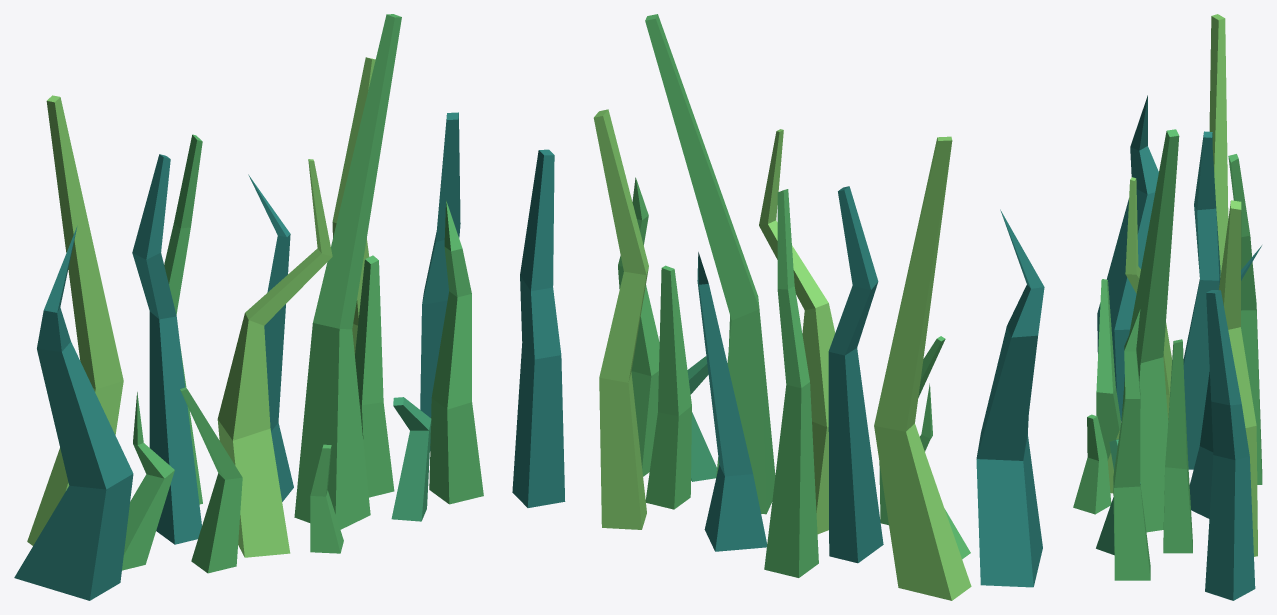
File: Grass_6.fbx
3 views of the same model, side by side, from view 1: azimuth 30°, elevation 25°; view 2: azimuth 150°, elevation 25°; view 3: azimuth 270°, elevation 25° (orthographic). The views are drawn at different scales.
Visible parts, largest first — view 1: Grass_6; view 2: Grass_6; view 3: Grass_6.
Boxes of the visible parts, x1=… form: Grass_6: x1=14, y1=14, x2=483, y2=600; Grass_6: x1=512, y1=14, x2=1044, y2=600; Grass_6: x1=1073, y1=14, x2=1262, y2=600.
Size of the model in its own units: 75.25 by 70.27 by 28.54.
